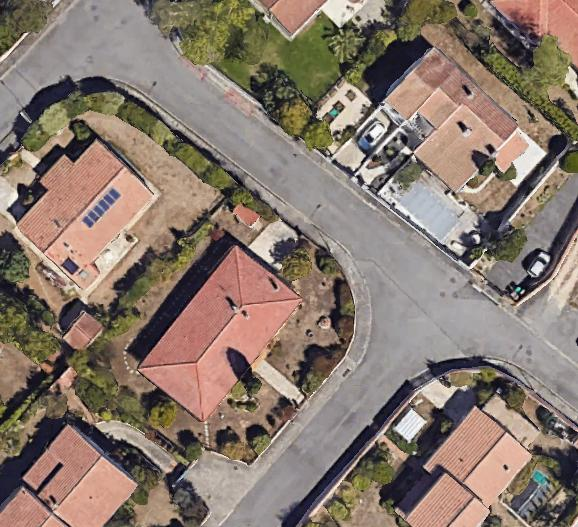maison: (133, 243, 303, 423), (366, 43, 535, 209), (6, 128, 162, 294), (390, 402, 534, 527), (0, 420, 141, 527), (494, 0, 577, 65), (256, 0, 328, 37)
